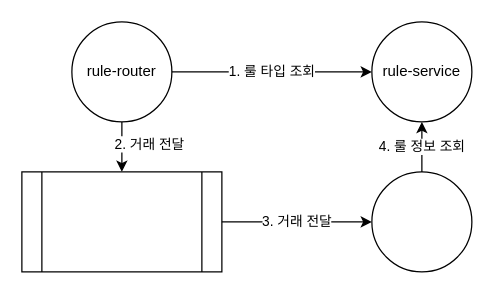
Some shapes in this 494 by 294 pixel diagram are drawn without their labels. Here are the shapes that lost their labels. From the top down, the centre of each, then its label:
At pixel 121 221: "Kafka (fds.transactions)".
At pixel 421 221: "profile-detect-service".
